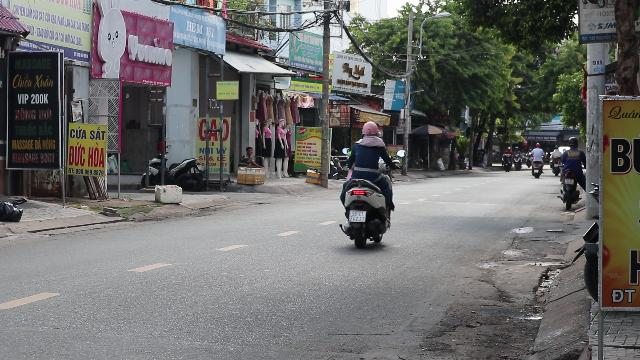helmet: (360, 121, 380, 137)
licenseplate: (348, 210, 366, 222)
motorcyclist: (336, 120, 396, 248)
